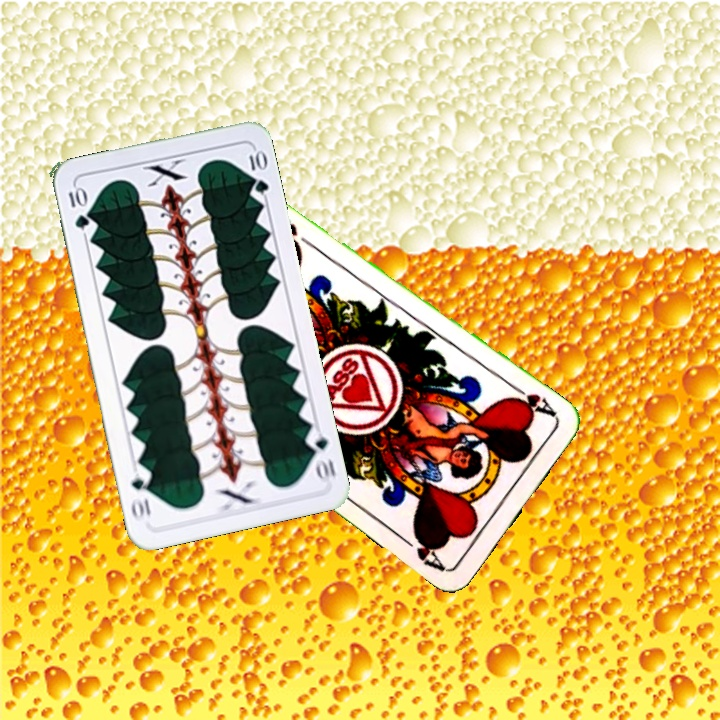G10: (302, 427, 338, 485), (64, 183, 92, 232)
HA: (506, 380, 560, 421)
